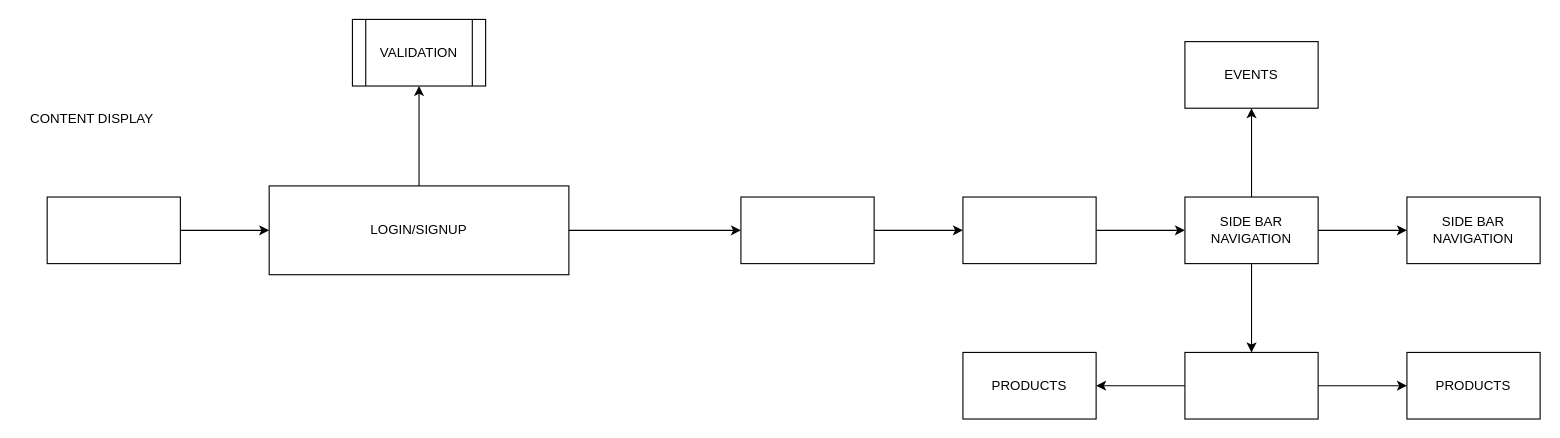
This 1560x438 diagram has some shape labels left out. The shapes that lost their labels are listed below. From the top down, each one's box as (x1, y1, x2, y2) in pixels, then its label:
(46, 196, 180, 264): START
(740, 196, 874, 264): HOMEPAGE
(962, 196, 1096, 264): ANNOUCEMENTS PAGE
(1184, 351, 1318, 419): EXTRAS
